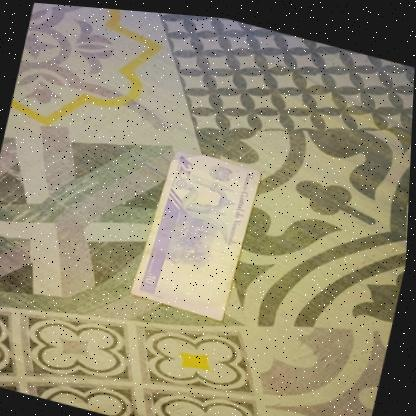ten-back-vef: (129, 139, 265, 322)
